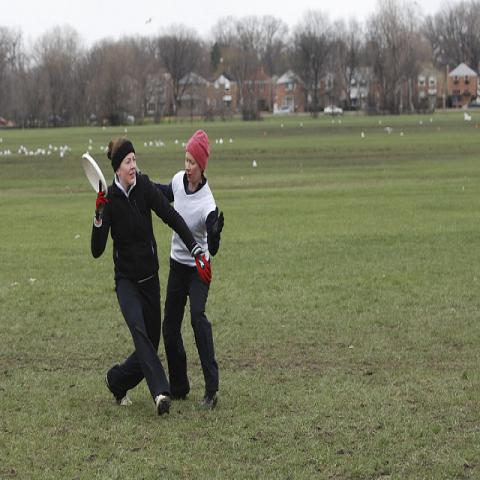car: (275, 106, 292, 114)
